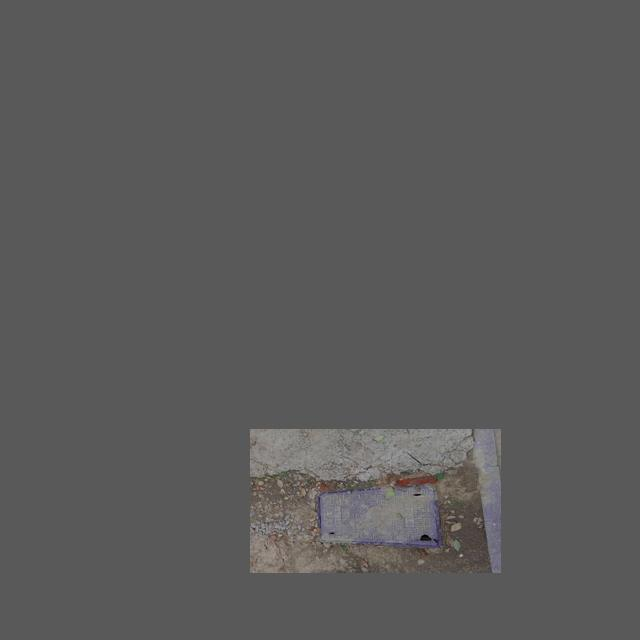broke: (317, 485, 442, 547)
